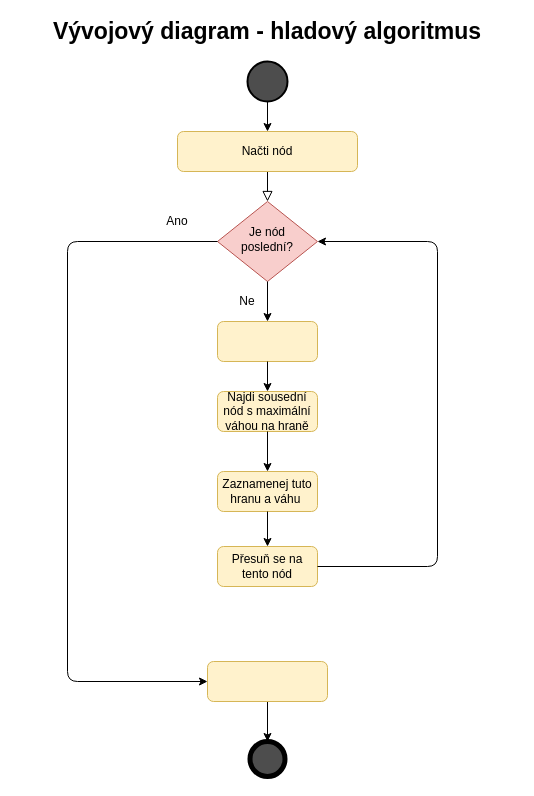
The diagram is 534 pixels wide and 796 high, and some of its shapes have lost their labels. Each missing label, with the box of its shape:
Vyhledej sousedy nódu: (216, 320, 318, 362)
Vytiskni řešení: (206, 660, 328, 702)
